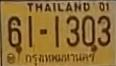0: (81, 15, 95, 46)
1: (28, 15, 33, 47), (54, 15, 58, 47)
3: (66, 15, 79, 46), (97, 15, 110, 46)
6: (7, 16, 21, 48)
BKK: (24, 52, 95, 65)
